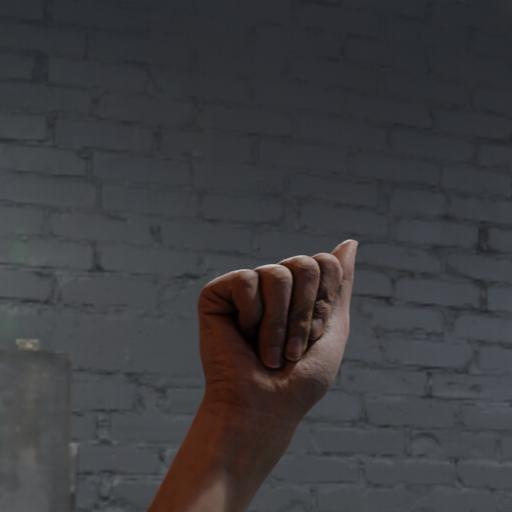A: (182, 218, 372, 428)
